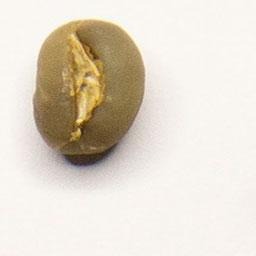peaberry: (31, 17, 150, 159)
